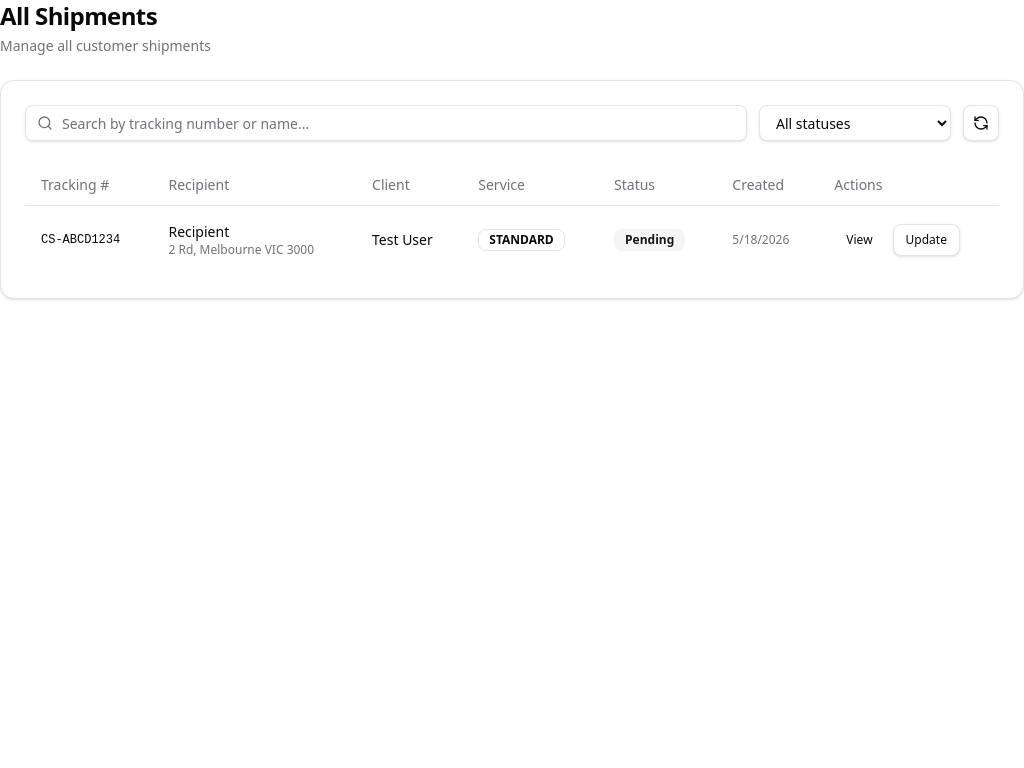
Test: DashboardPage › opens admin update dialog when Update button is clicked
Click the button "Update" at (926, 240), box 893,224 -> 960,256
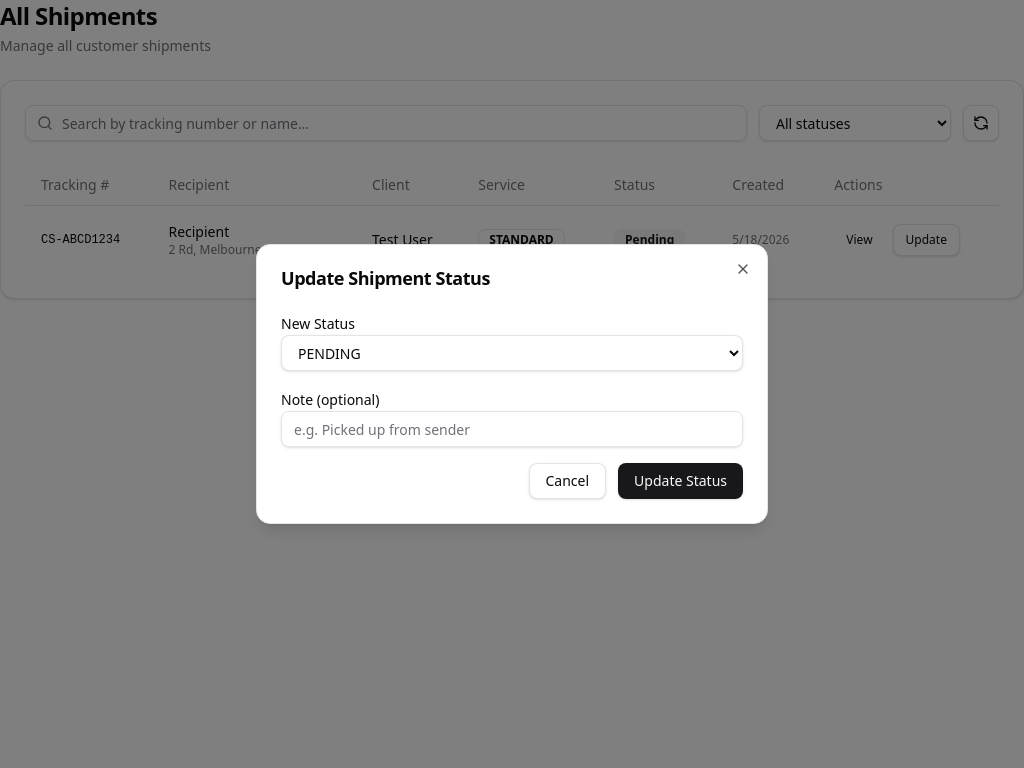
Check: the heading "Update Shipment Status" is shown, box 281,266 -> 490,290
